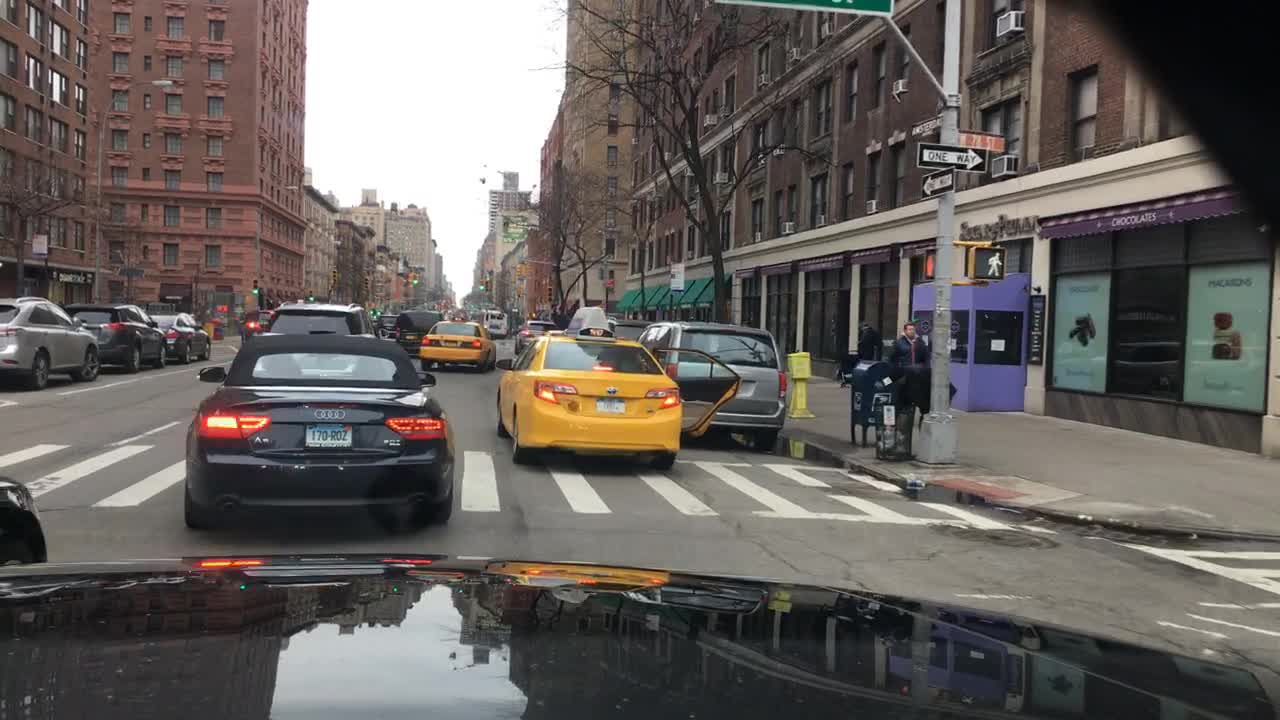car: (180, 332, 454, 525), (493, 305, 681, 462), (647, 318, 785, 449), (0, 294, 101, 387), (67, 301, 164, 373), (418, 308, 496, 369), (261, 299, 368, 341), (0, 476, 45, 565), (152, 310, 214, 362), (393, 310, 440, 355), (511, 316, 554, 355), (608, 315, 650, 343), (236, 310, 269, 341), (482, 310, 506, 337), (371, 313, 396, 338), (429, 297, 442, 310), (449, 310, 467, 319), (471, 304, 487, 311), (412, 302, 424, 311)
person: (887, 319, 926, 369), (856, 318, 879, 360)
traffic light: (967, 244, 1003, 280), (923, 247, 935, 280), (327, 266, 337, 286), (515, 258, 522, 282), (544, 285, 553, 302), (409, 269, 417, 286), (249, 279, 257, 294), (365, 269, 370, 293), (305, 288, 313, 301), (478, 279, 484, 293)
traffic sign: (714, 0, 895, 15), (917, 141, 984, 172), (957, 128, 1008, 153), (921, 170, 951, 194), (602, 277, 614, 288)
